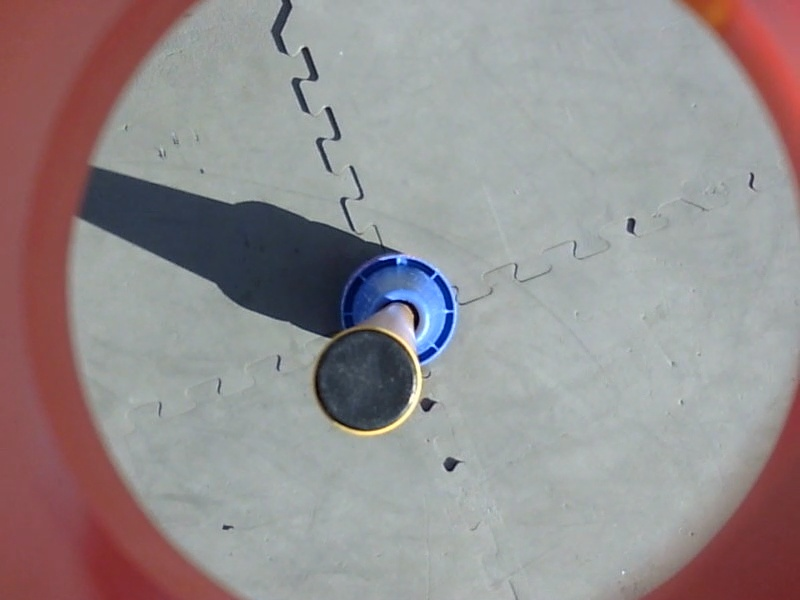tip: (306, 323, 424, 440)
